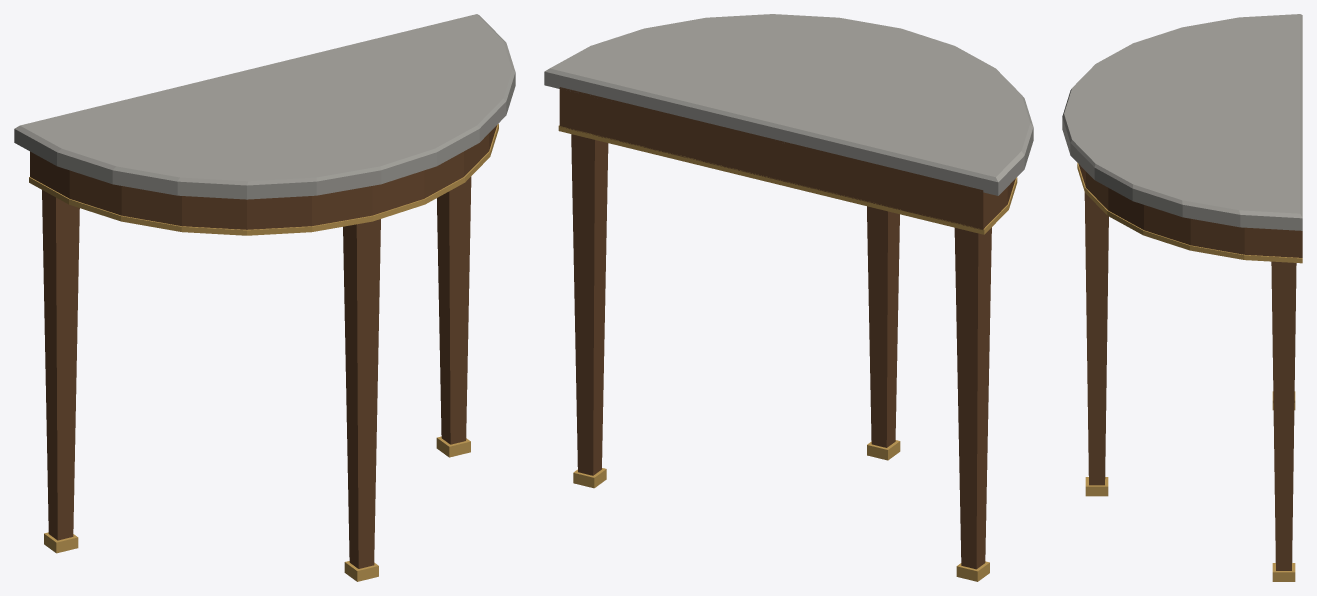
The model's file is FN_Table_Demilune.glb.
3 views of the same model, side by side, from view 1: azimuth 30°, elevation 25°; view 2: azimuth 150°, elevation 25°; view 3: azimuth 270°, elevation 25° (orthographic). The views are drawn at different scales.
Visible parts, largest first — view 1: FN_Table_Demilune; view 2: FN_Table_Demilune; view 3: FN_Table_Demilune.
Boxes of the visible parts, box(x1,y1,x2,y2) form: FN_Table_Demilune: box(14, 14, 515, 581); FN_Table_Demilune: box(544, 14, 1033, 581); FN_Table_Demilune: box(1062, 14, 1302, 581).
Size of the model in its own units: 0.9 by 0.78 by 0.45.
1 material, 1 textured.
